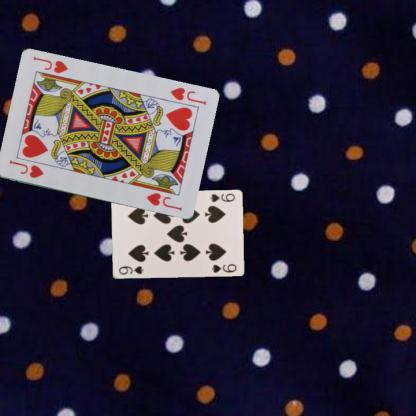9s: (207, 191, 236, 203), (116, 264, 145, 275)
Jh: (6, 157, 45, 180), (168, 85, 208, 106)
